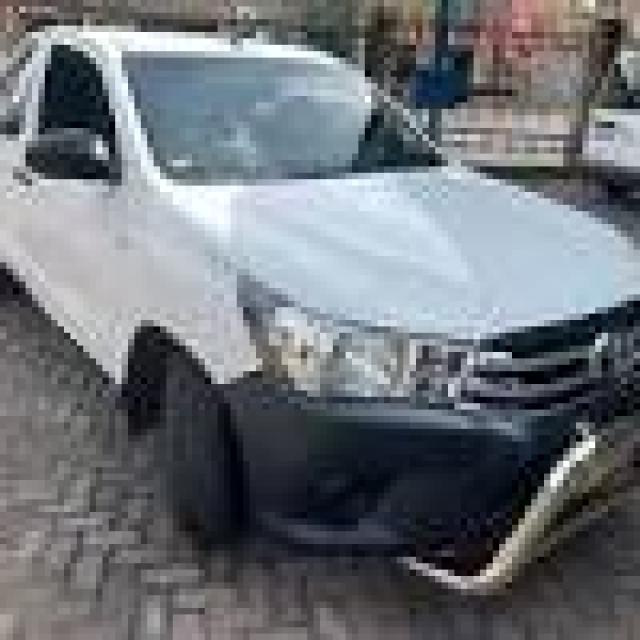Pickup Trucks: (6, 19, 634, 595)
